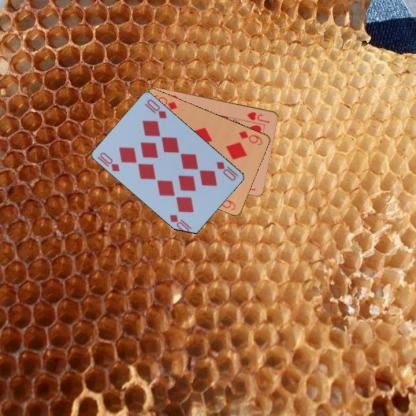10d: (214, 159, 240, 182), (97, 150, 121, 173)
6d: (236, 128, 264, 146)
Jh: (244, 109, 271, 124)
